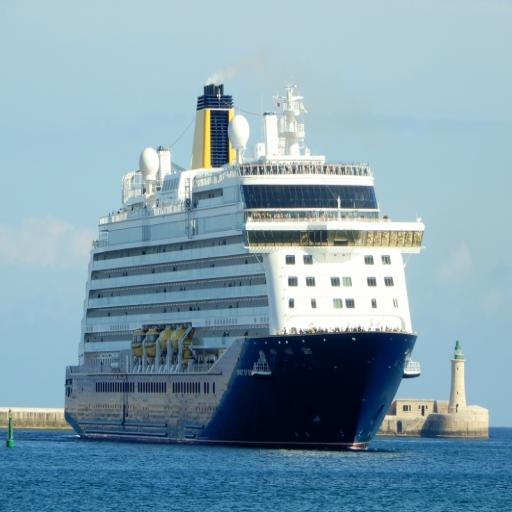cruises: (59, 73, 429, 455)
